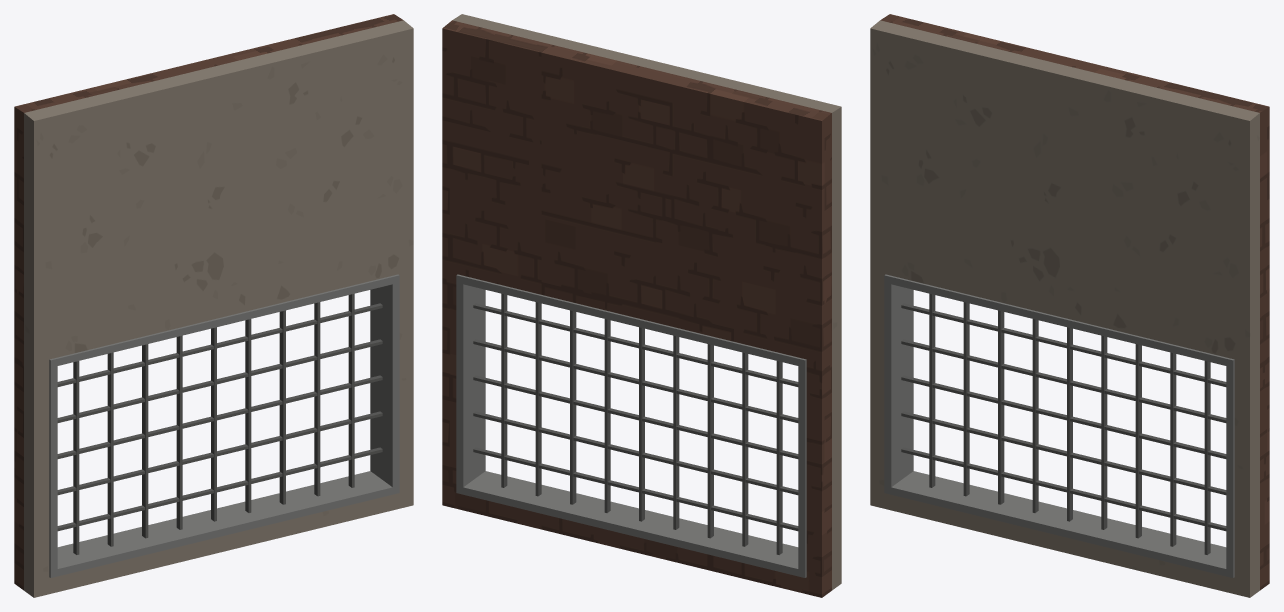
The model's file is SM_Bld_Base_Wall_Window_Bars_01.obj.
The picture shows the model from 3 angles, left to right: view 1: azimuth 30°, elevation 25°; view 2: azimuth 150°, elevation 25°; view 3: azimuth 330°, elevation 25°; orthographic projection.
Parts seen in each view (by area): view 1: SM_Bld_Base_Wall_Window_Bars_01_3, SM_Bld_Base_Wall_Window_Bars_01_0, SM_Bld_Base_Wall_Window_Bars_01_2; view 2: SM_Bld_Base_Wall_Window_Bars_01_2, SM_Bld_Base_Wall_Window_Bars_01_0, SM_Bld_Base_Wall_Window_Bars_01_3, SM_Bld_Base_Wall_Window_Bars_01_1; view 3: SM_Bld_Base_Wall_Window_Bars_01_3, SM_Bld_Base_Wall_Window_Bars_01_0, SM_Bld_Base_Wall_Window_Bars_01_2.
Boxes of the visible parts, left/top/right/bottom form: SM_Bld_Base_Wall_Window_Bars_01_3: left=24, top=20, right=413, bottom=597; SM_Bld_Base_Wall_Window_Bars_01_0: left=49, top=274, right=399, bottom=577; SM_Bld_Base_Wall_Window_Bars_01_2: left=14, top=14, right=403, bottom=590; SM_Bld_Base_Wall_Window_Bars_01_2: left=442, top=20, right=831, bottom=597; SM_Bld_Base_Wall_Window_Bars_01_0: left=456, top=275, right=805, bottom=577; SM_Bld_Base_Wall_Window_Bars_01_3: left=452, top=14, right=841, bottom=590; SM_Bld_Base_Wall_Window_Bars_01_1: left=457, top=274, right=806, bottom=577; SM_Bld_Base_Wall_Window_Bars_01_3: left=870, top=20, right=1259, bottom=597; SM_Bld_Base_Wall_Window_Bars_01_0: left=884, top=274, right=1234, bottom=577; SM_Bld_Base_Wall_Window_Bars_01_2: left=880, top=14, right=1269, bottom=590.
Bounding box in the file's own units: 2.5 × 3.01 × 0.2556.
4 materials, 4 textured.
